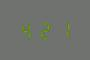four: (18, 20, 34, 40)
one: (53, 19, 69, 39)
two: (36, 20, 52, 39)
